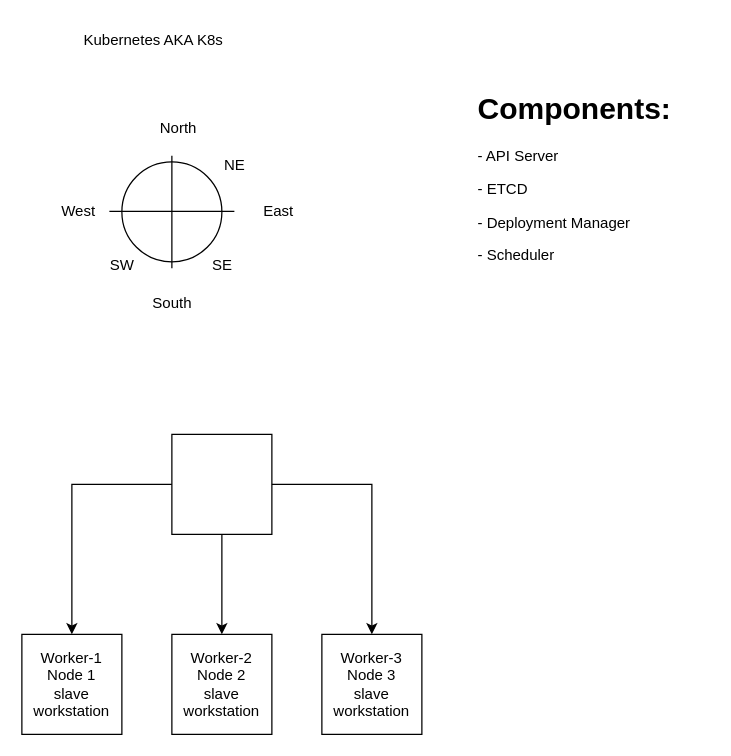
Image size: 731x756. Some labels were removed from this diagram. Here are the shapes that lost their labels. From the top down, the box of each, then its label:
(121, 161, 222, 262): NW
(171, 433, 272, 534): Master / Server Control - Plane
